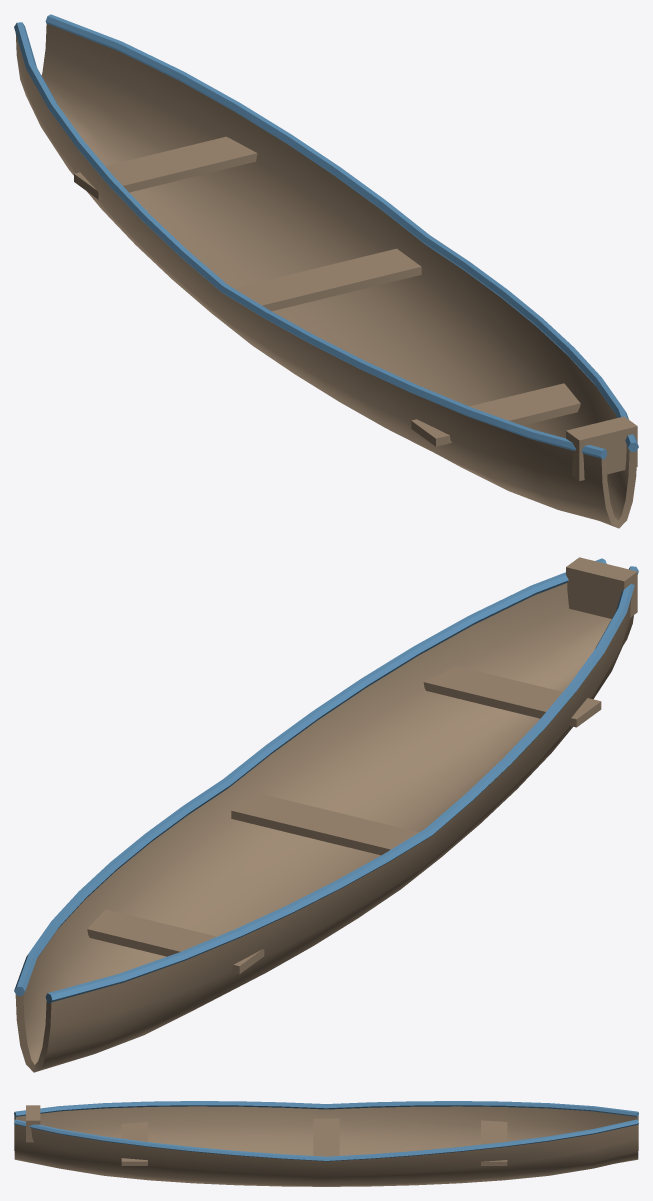
File: canoa.glb
The picture shows the model from 3 angles, top to bottom: view 1: azimuth 30°, elevation 25°; view 2: azimuth 150°, elevation 25°; view 3: azimuth 270°, elevation 25°; orthographic projection. The views are drawn at different scales.
Parts seen in each view (by area): view 1: canoa; view 2: canoa; view 3: canoa.
Part boxes in pixels (left/top/right/bottom): canoa: left=14, top=14, right=638, bottom=528; canoa: left=14, top=557, right=638, bottom=1072; canoa: left=14, top=1101, right=638, bottom=1186.
Bounding box in the file's own units: 1.09 × 0.6175 × 5.22.
